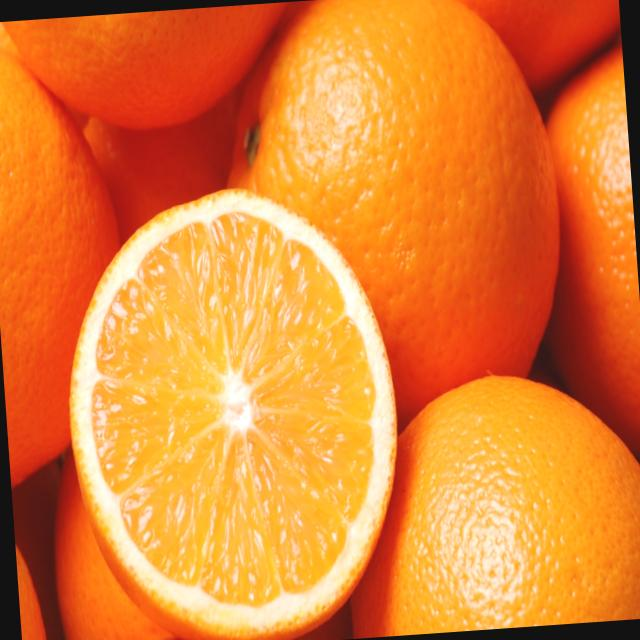orange: (173, 0, 581, 447), (328, 358, 640, 630)
